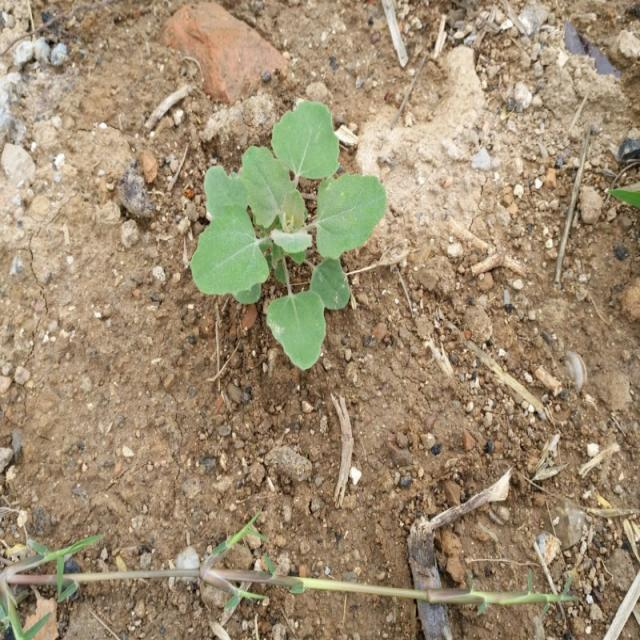ca: (192, 102, 386, 368)
